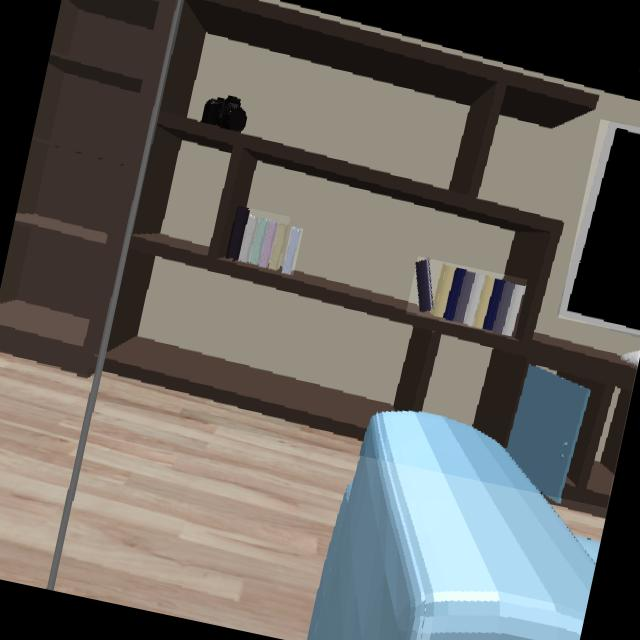book: (416, 260, 523, 336), (228, 209, 287, 270), (281, 228, 301, 274)
monitor: (559, 122, 640, 335)
shelf: (105, 0, 635, 501)
